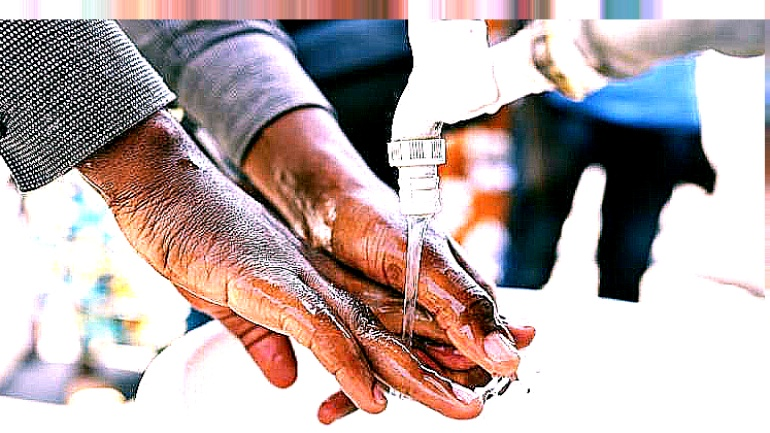washing hand: (84, 34, 580, 429)
